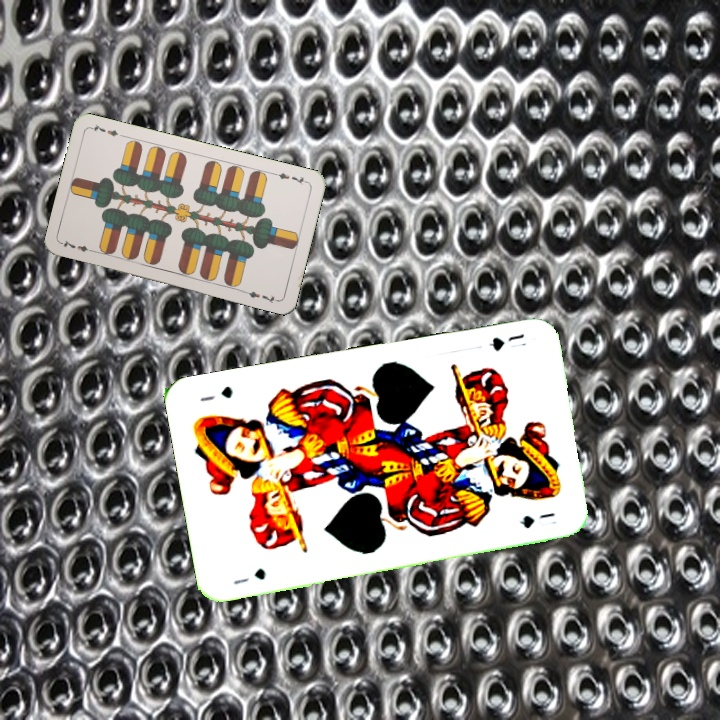E7: (270, 168, 310, 188), (58, 236, 98, 256)
GU: (485, 329, 527, 353), (229, 564, 268, 587)
